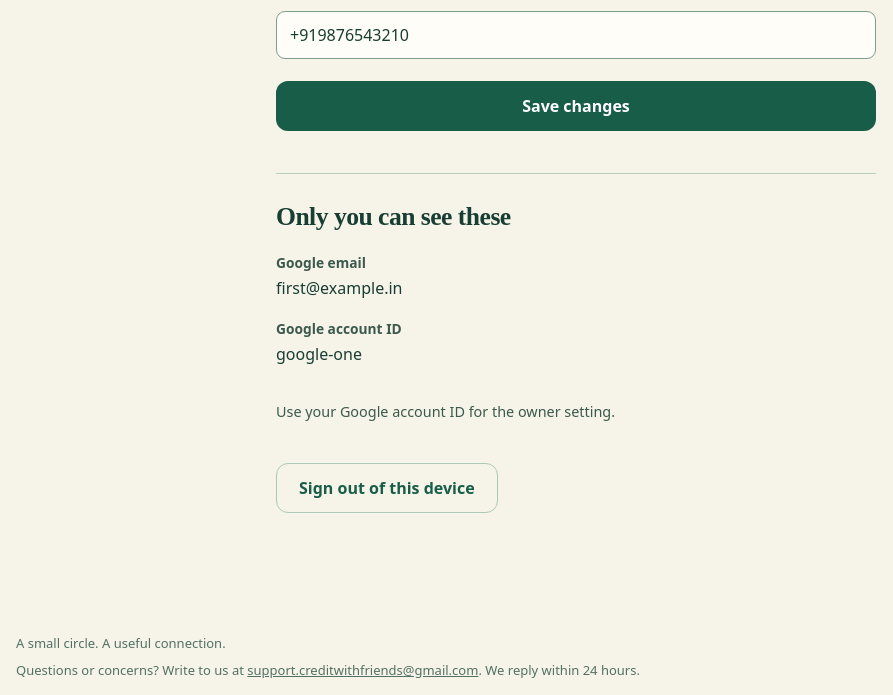
Test: an invalid session during sign-out hides private profile data and clears the cache
The image size is (893, 695).
(page scrolled)
Check: the text "first@example.in" is shown, box [276, 277, 402, 299]
Click the button "Sign out of this device" at (387, 488), box [276, 463, 498, 513]
(page scrolled)
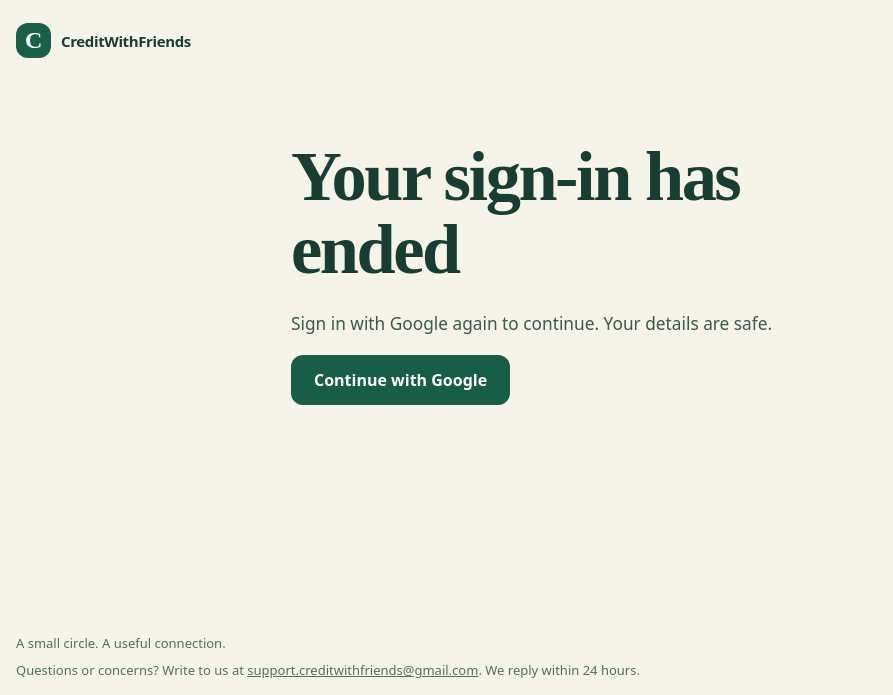
Check: the heading "Your sign-in has ended" is shown, box [291, 137, 739, 288]
Check: the text "first@example.in" is gone
